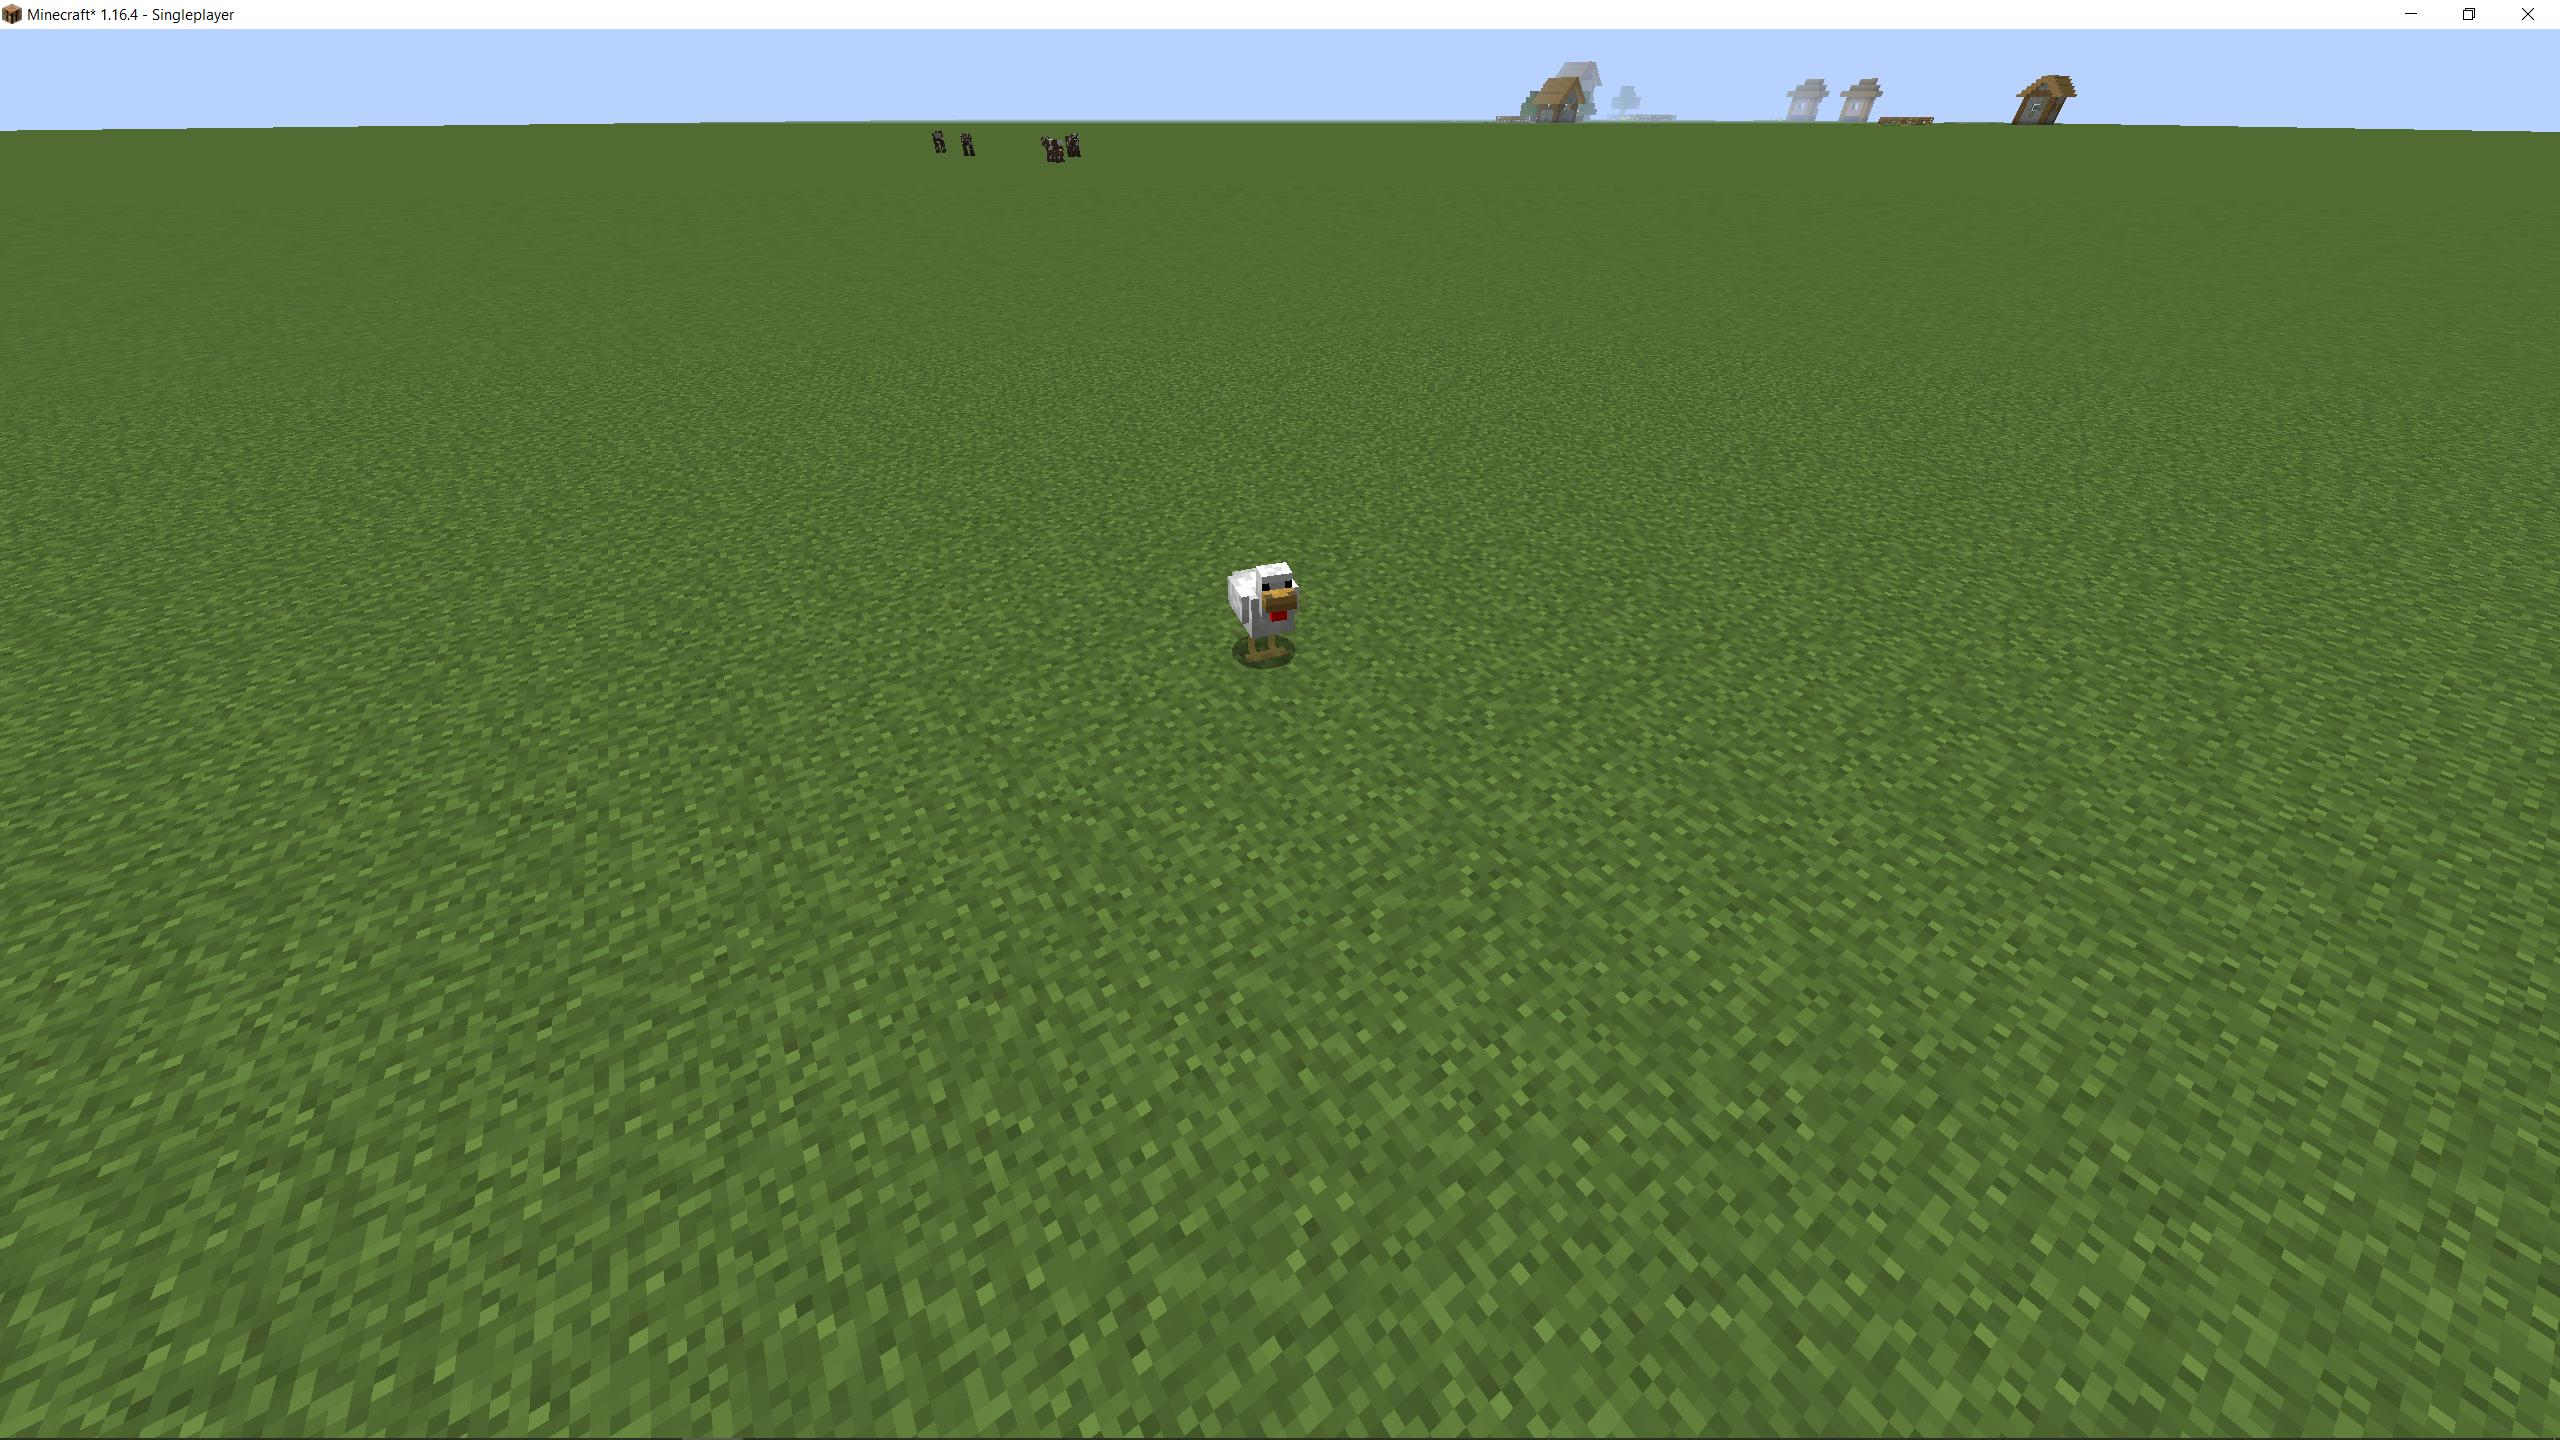chicken: (1218, 559, 1310, 663)
